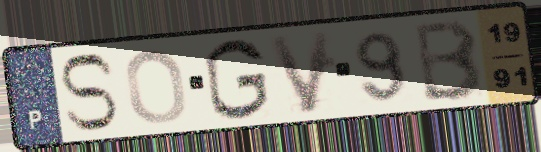9: (351, 28, 410, 105)
B: (413, 16, 487, 104)
G: (201, 36, 272, 123)
O: (123, 46, 190, 126)
S: (55, 51, 120, 134)
V: (264, 27, 335, 117)
